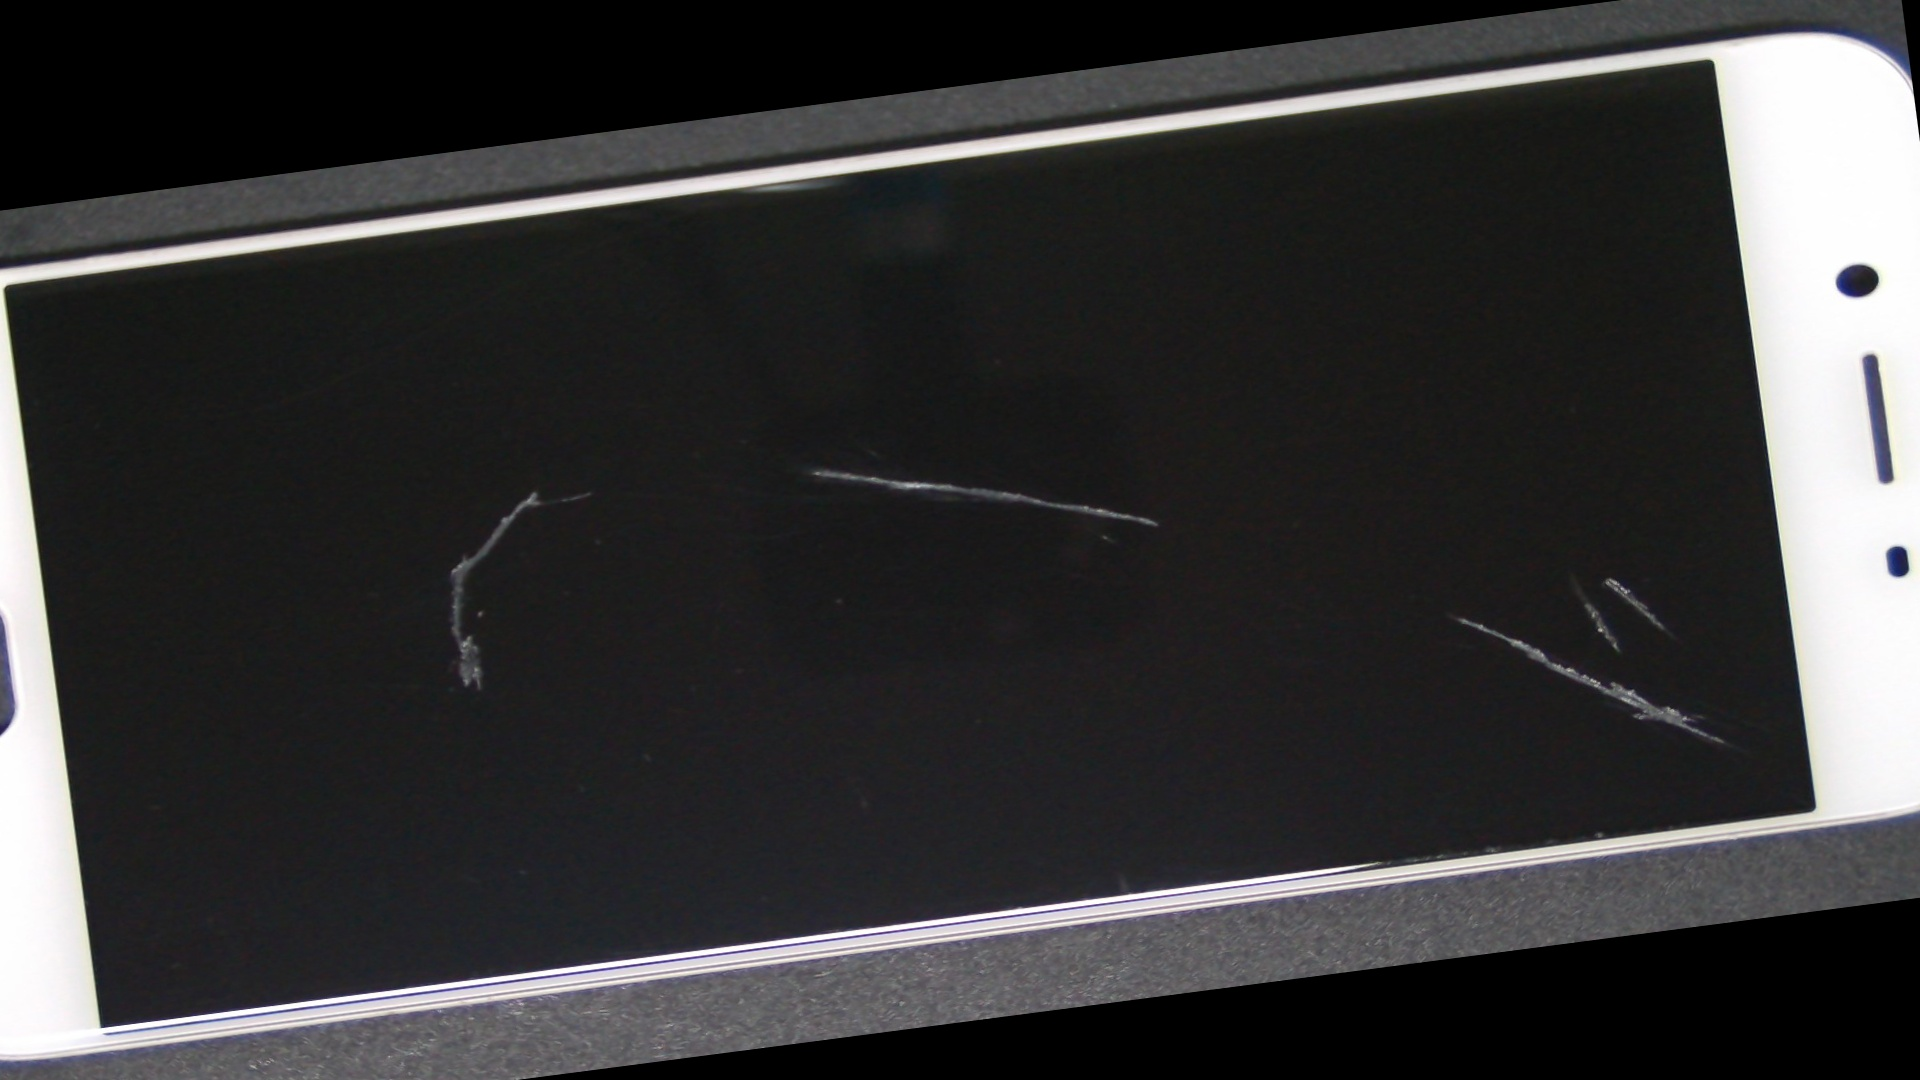oil: (620, 256, 1920, 1017), (679, 252, 1920, 992), (696, 247, 1920, 973), (301, 225, 1332, 712), (161, 272, 902, 712)
